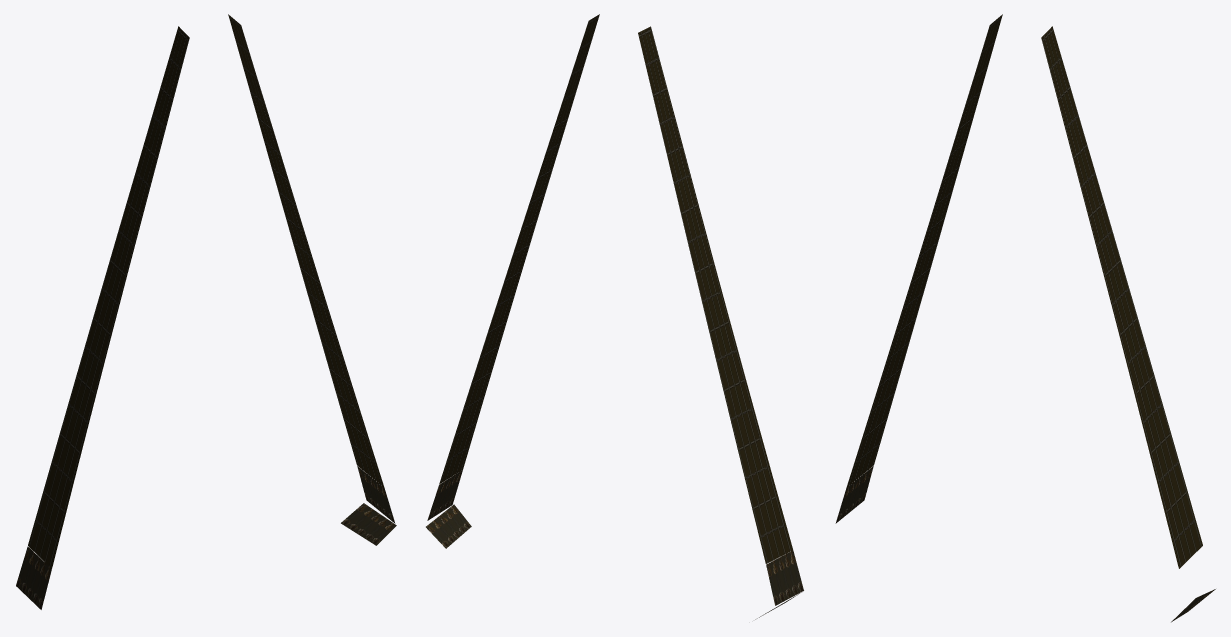
File: merchantL3-rigging_1.fbx
3 views of the same model, side by side, from view 1: azimuth 30°, elevation 25°; view 2: azimuth 150°, elevation 25°; view 3: azimuth 330°, elevation 25° (orthographic).
Parts seen in each view (by area): view 1: rigging_2_A2, rigging_2_A3, pullys_15, riggingmount_pulleys9, pullys_16; view 2: rigging_2_A2, rigging_2_A3, pullys_15, riggingmount_pulleys9, pullys_16; view 3: rigging_2_A3, rigging_2_A2, pullys_15.
Boxes of the visible parts, x1,y1,x2,y2 form: rigging_2_A2: [28, 26, 189, 568]; rigging_2_A3: [228, 14, 384, 487]; pullys_15: [16, 546, 51, 609]; riggingmount_pulleys9: [341, 503, 396, 545]; pullys_16: [357, 466, 395, 523]; rigging_2_A2: [638, 26, 792, 563]; rigging_2_A3: [439, 14, 599, 484]; pullys_15: [766, 550, 803, 605]; riggingmount_pulleys9: [426, 504, 471, 548]; pullys_16: [427, 470, 462, 520]; rigging_2_A3: [1041, 26, 1202, 568]; rigging_2_A2: [846, 14, 1002, 487]; pullys_15: [835, 466, 873, 523].
Size of the model in its own units: 10025 by 14969 by 1581.
Materials: 1 (1 with a texture image).
